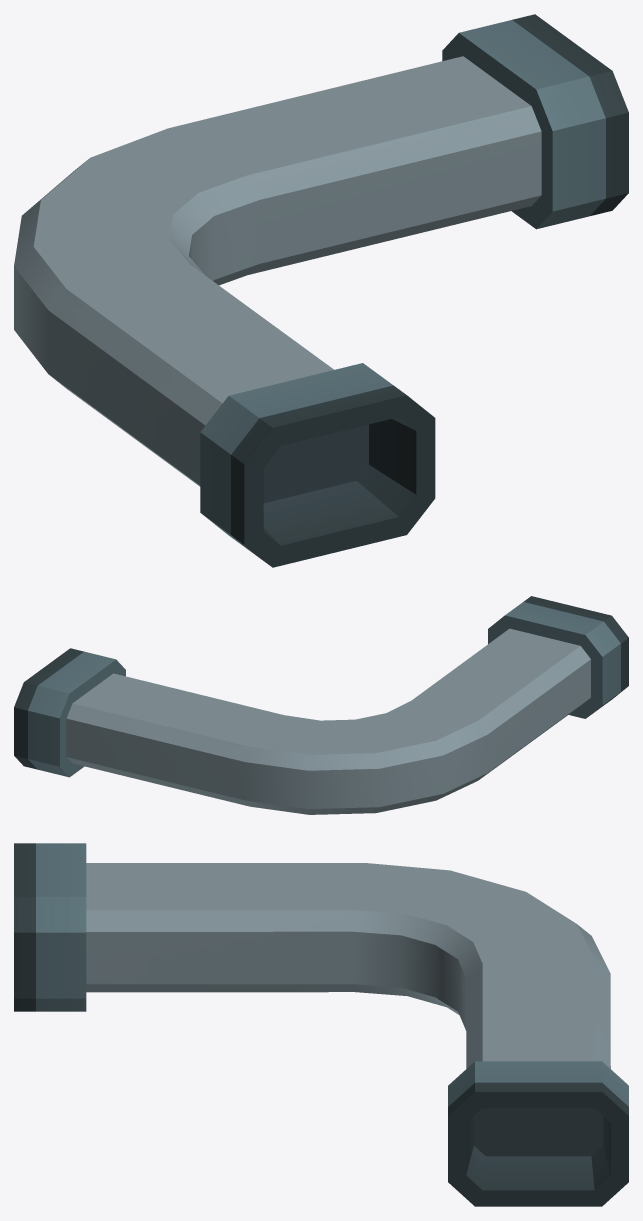
Rendered from Vent_tube_004.fbx.
3 renders of one model, top to bottom at view 1: azimuth 30°, elevation 25°; view 2: azimuth 150°, elevation 25°; view 3: azimuth 270°, elevation 25°, orthographic. The views are drawn at different scales.
Parts seen in each view (by area): view 1: Vent_tube_004; view 2: Vent_tube_004; view 3: Vent_tube_004.
Part boxes in pixels (<box>): Vent_tube_004: <box>14,14,628,567</box>; Vent_tube_004: <box>14,596,628,814</box>; Vent_tube_004: <box>14,843,628,1206</box>.
Size of the model in its own units: 170 by 170 by 35.
